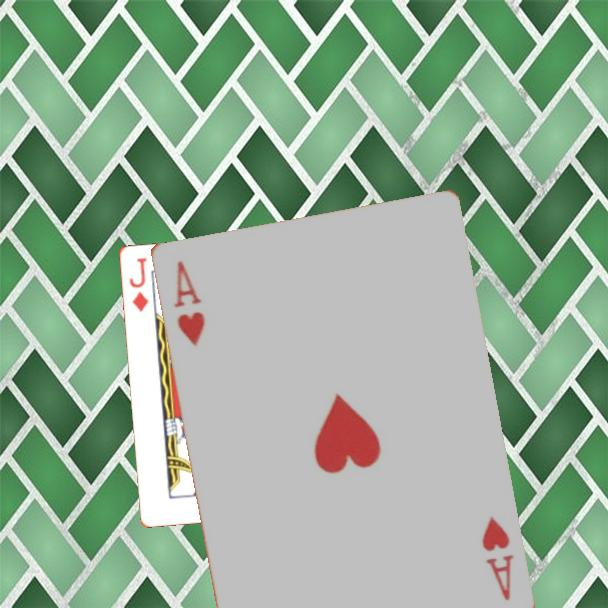d11: (125, 254, 151, 314)
h01: (477, 512, 517, 603), (169, 257, 208, 349)
